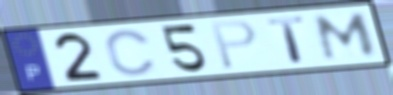2: (52, 32, 106, 84)
5: (159, 24, 210, 74)
C: (103, 27, 158, 77)
M: (313, 11, 379, 62)
P: (208, 18, 259, 71)
T: (265, 15, 309, 65)
